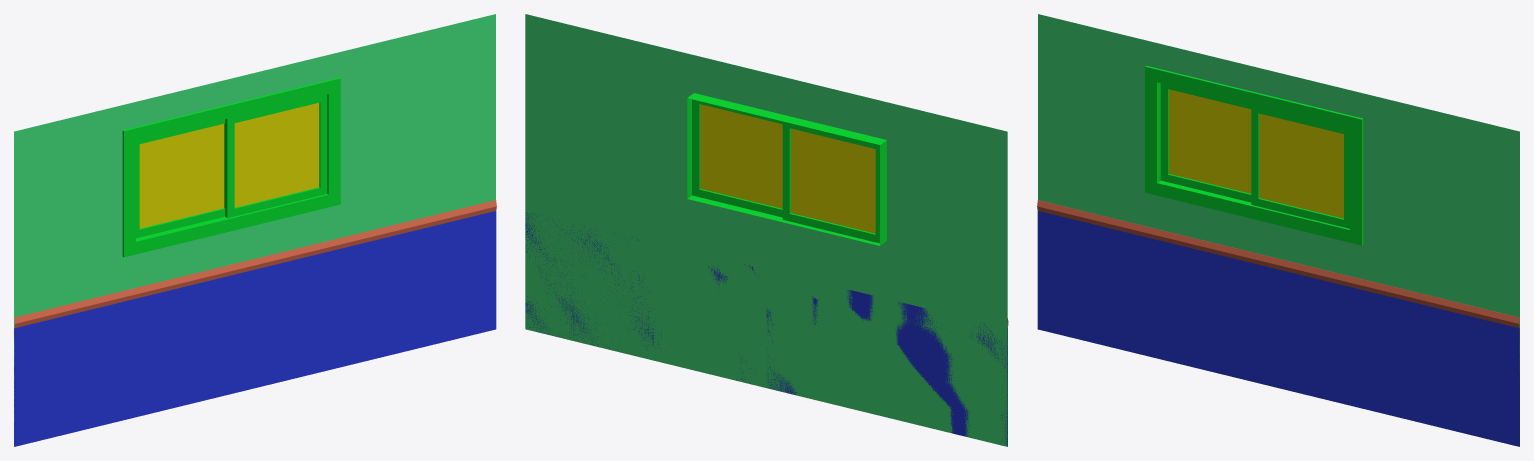
File: Ventana 1.fbx
The picture shows the model from 3 angles, left to right: view 1: azimuth 30°, elevation 25°; view 2: azimuth 150°, elevation 25°; view 3: azimuth 330°, elevation 25°; orthographic projection.
Parts seen in each view (by area): view 1: wall_window.001, tiles_02.004, tiles_02.005, window_frame.001, window_01.001, window_02.001, tiles_01.004, window_frame_01.001, window_frame_02.001; view 2: wall_window.001, window_02.001, window_01.001, tiles_02.004, window_frame.001, window_frame_02.001, window_frame_01.001, tiles_02.005; view 3: wall_window.001, tiles_02.004, tiles_02.005, window_frame.001, window_01.001, window_02.001, tiles_01.004, window_frame_01.001, window_frame_02.001.
Boxes of the visible parts, x1,y1,x2,y2 form: wall_window.001: [14, 14, 495, 427]; tiles_02.004: [14, 269, 255, 446]; tiles_02.005: [255, 211, 496, 387]; window_frame.001: [122, 77, 340, 257]; window_01.001: [234, 103, 319, 207]; window_02.001: [139, 124, 224, 228]; tiles_01.004: [14, 200, 496, 328]; window_frame_01.001: [225, 94, 327, 218]; window_frame_02.001: [136, 119, 225, 238]; wall_window.001: [525, 14, 1007, 446]; window_02.001: [791, 128, 875, 233]; window_01.001: [700, 104, 782, 208]; tiles_02.004: [766, 290, 1007, 446]; window_frame.001: [687, 93, 886, 245]; window_frame_02.001: [782, 121, 879, 243]; window_frame_01.001: [692, 99, 782, 217]; tiles_02.005: [525, 212, 761, 383]; wall_window.001: [1038, 14, 1519, 370]; tiles_02.004: [1037, 211, 1278, 387]; tiles_02.005: [1278, 269, 1519, 446]; window_frame.001: [1145, 65, 1363, 245]; window_01.001: [1259, 113, 1343, 218]; window_02.001: [1169, 89, 1251, 193]; tiles_01.004: [1037, 200, 1519, 328]; window_frame_01.001: [1251, 105, 1349, 228]; window_frame_02.001: [1160, 83, 1251, 202].
Bounding box in the file's own units: 400 × 250 × 12.
